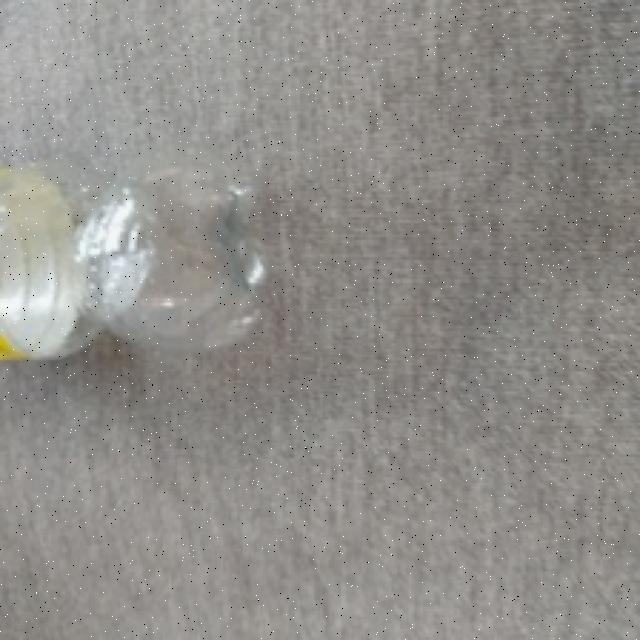bottle: (0, 170, 266, 373)
